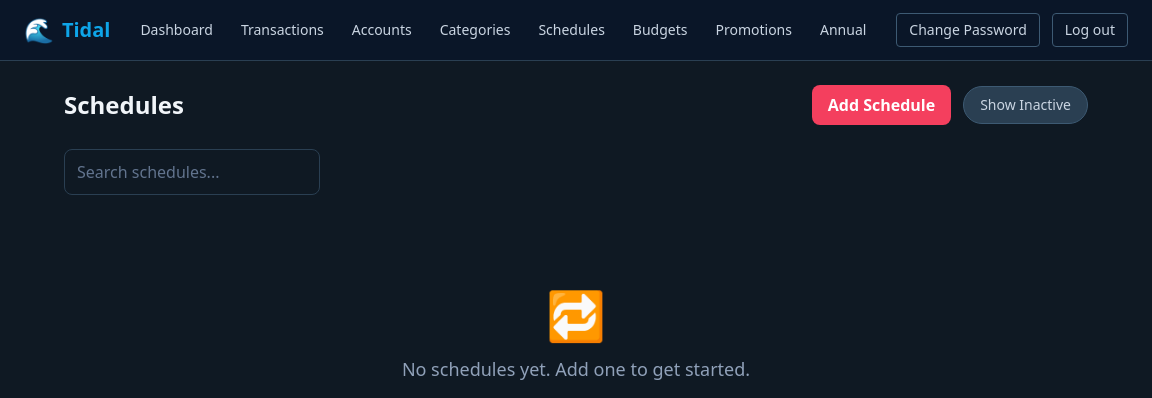
SchedulesPage › button text toggles to Hide Inactive after clicking Show Inactive
The image size is (1152, 398).
Check: the text "No schedules yet. Add one to get started." is shown, box [402,357,750,381]
Click the button "Show Inactive". click: (1026, 105)
box: [963,86,1088,124]
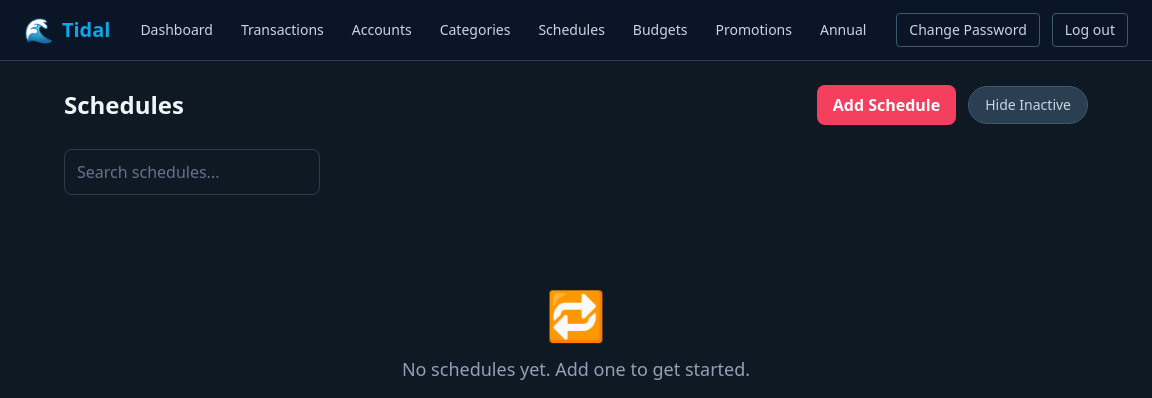
Check: the button "Hide Inactive" is shown, box [968,86,1088,124]
